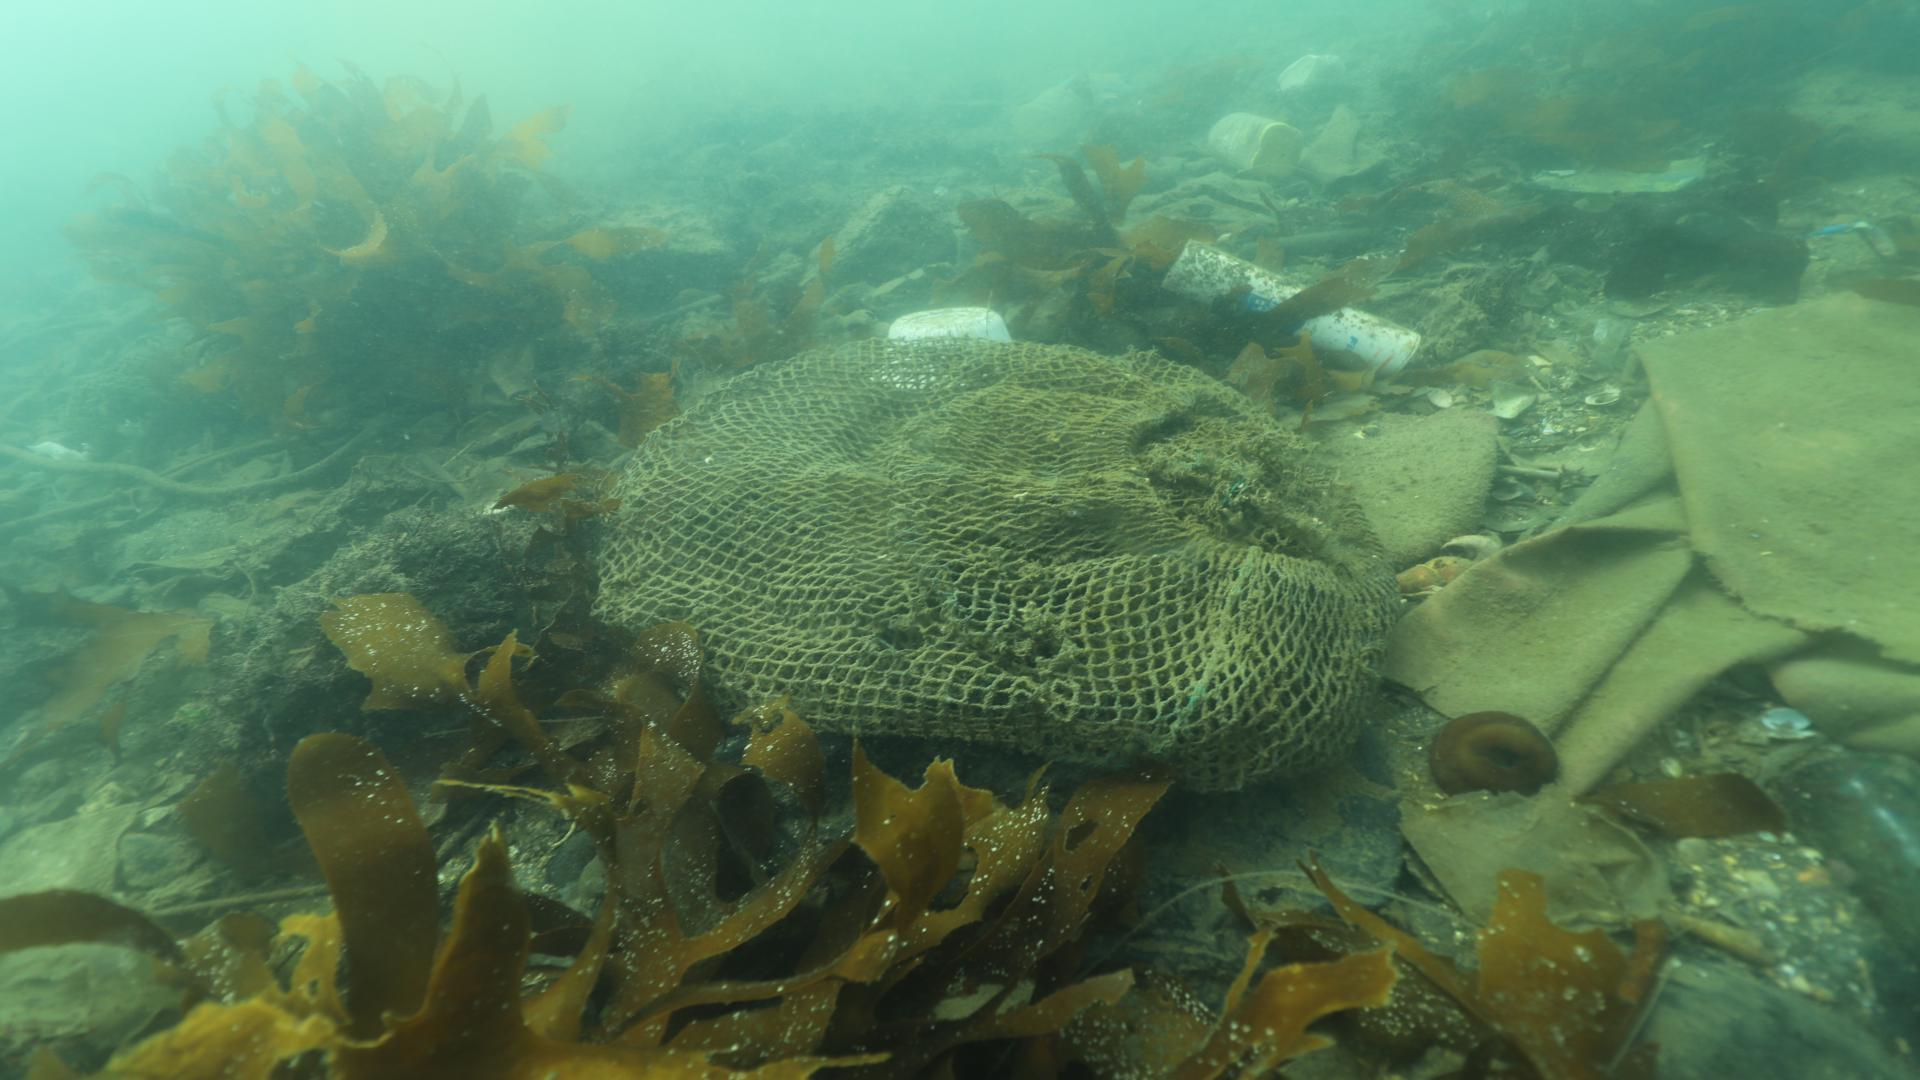fish net: (593, 334, 1400, 793)
